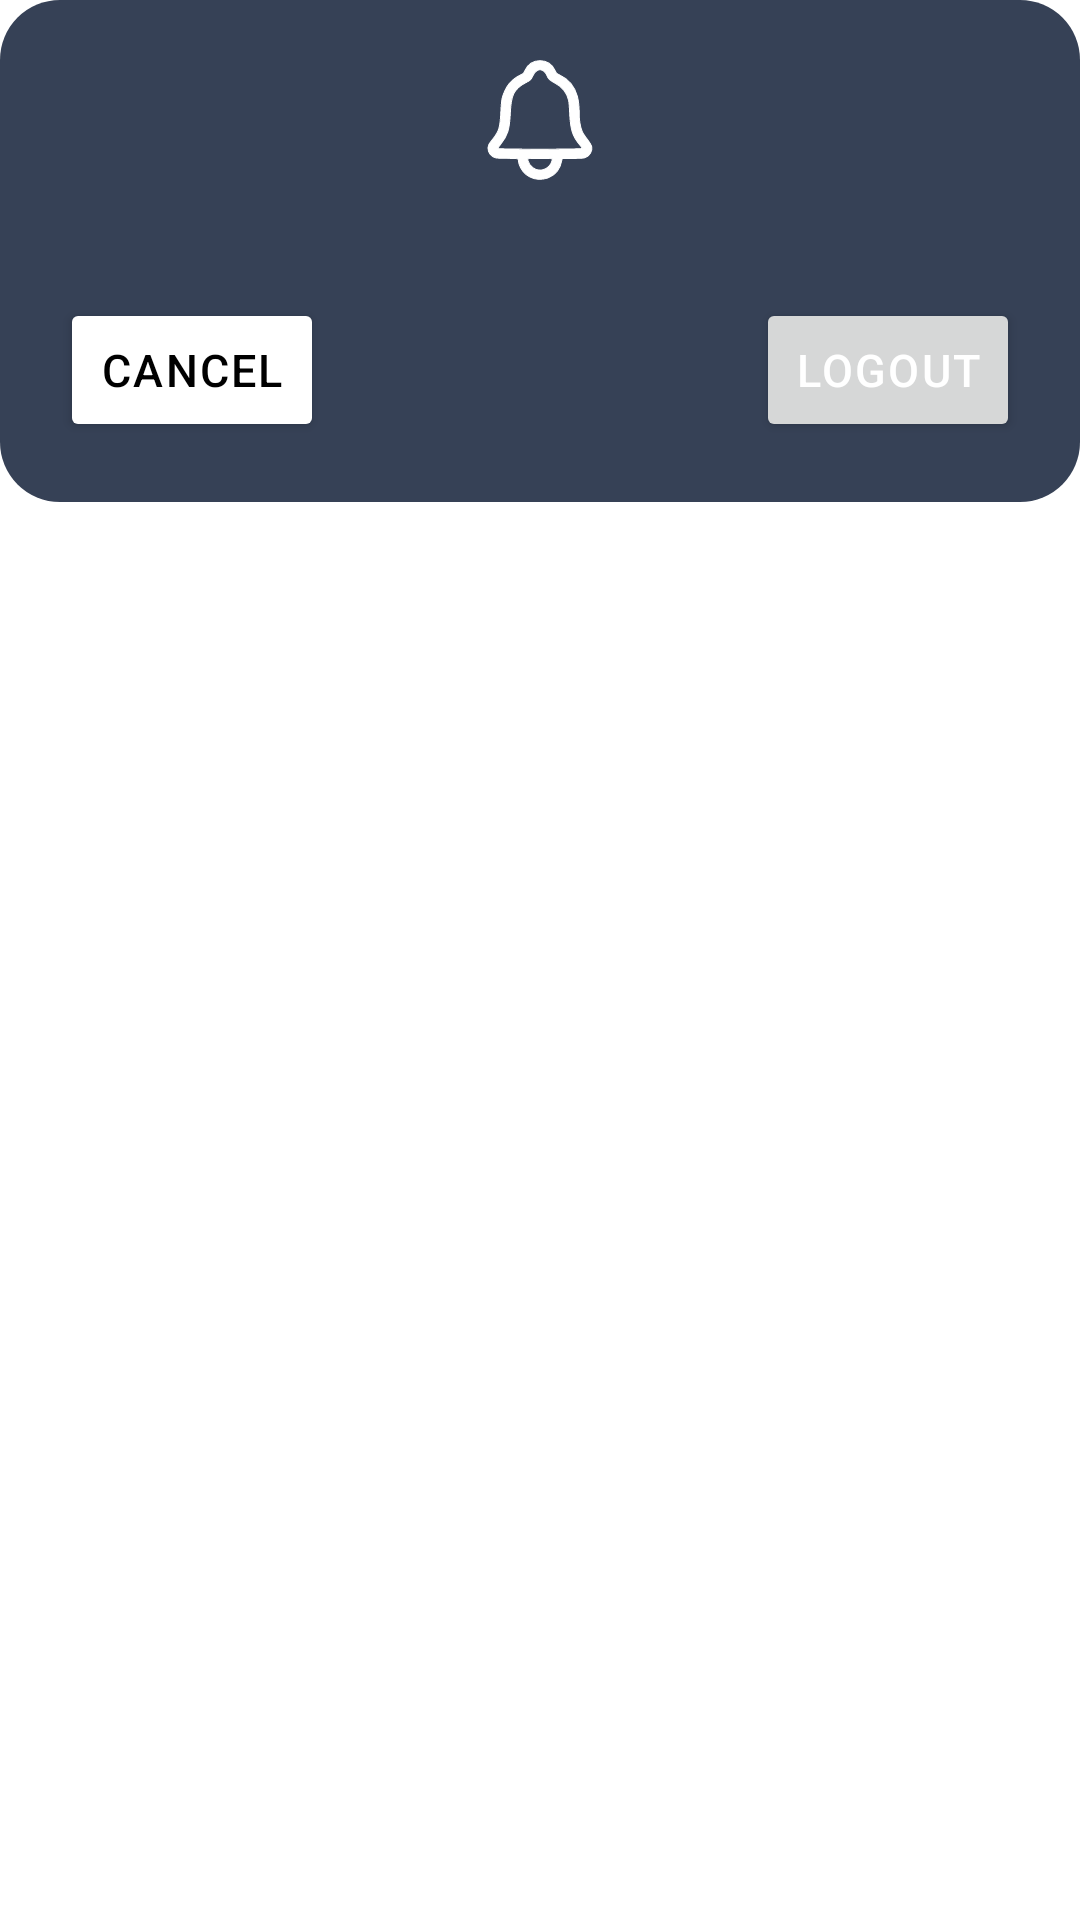

Icon bounding boxes for this 1080 × 1920 phone screenshot, format (x1, y1, x2, y2):
notification: (487, 60, 593, 180)
